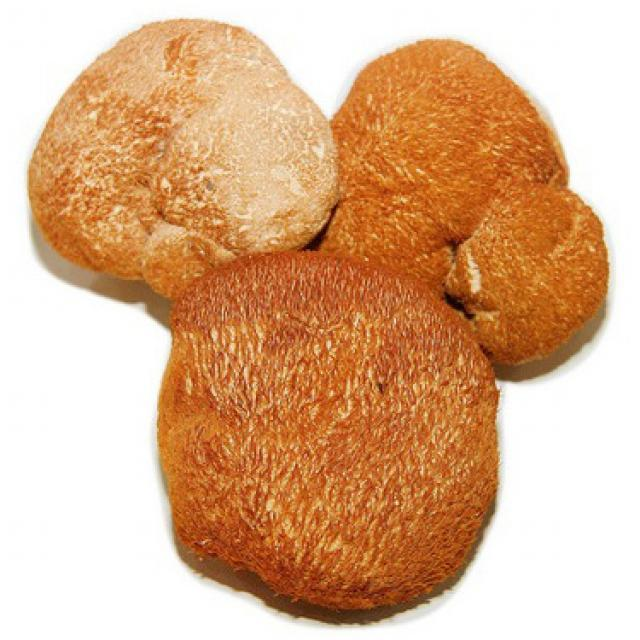Hericium erinaceus: (159, 253, 500, 616), (334, 40, 608, 373), (26, 18, 339, 296)
